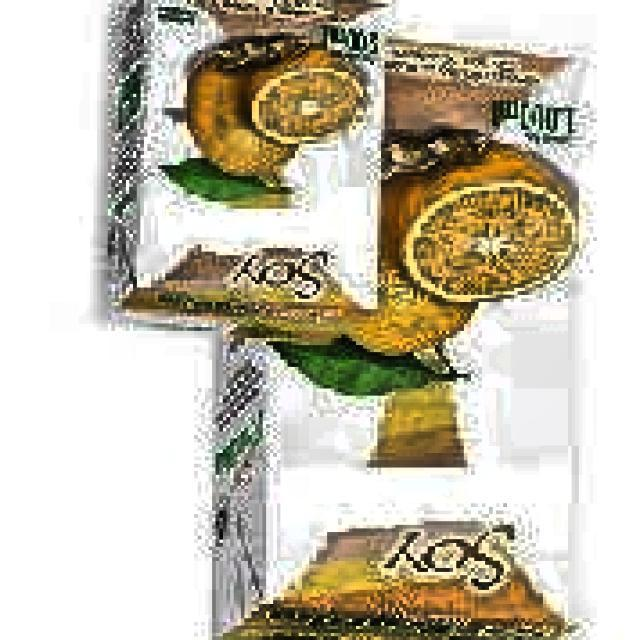cardboard: (108, 0, 392, 331)
